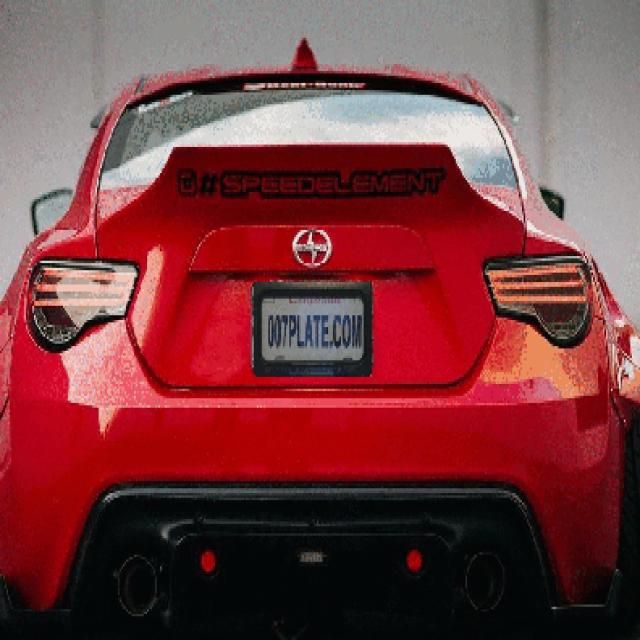license_plate: (250, 289, 367, 377)
